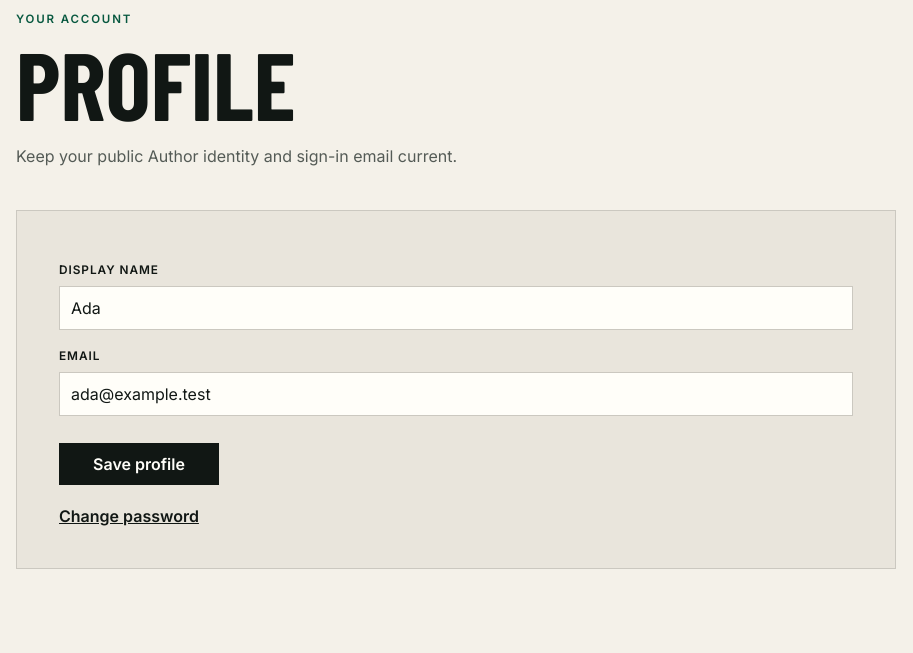
reports update errors without clearing profile values
What coordinates should you click on to do the following:
click the button "Save profile"
I would click on:
 (139, 464)
Its box is x1=59 y1=443 x2=219 y2=485.
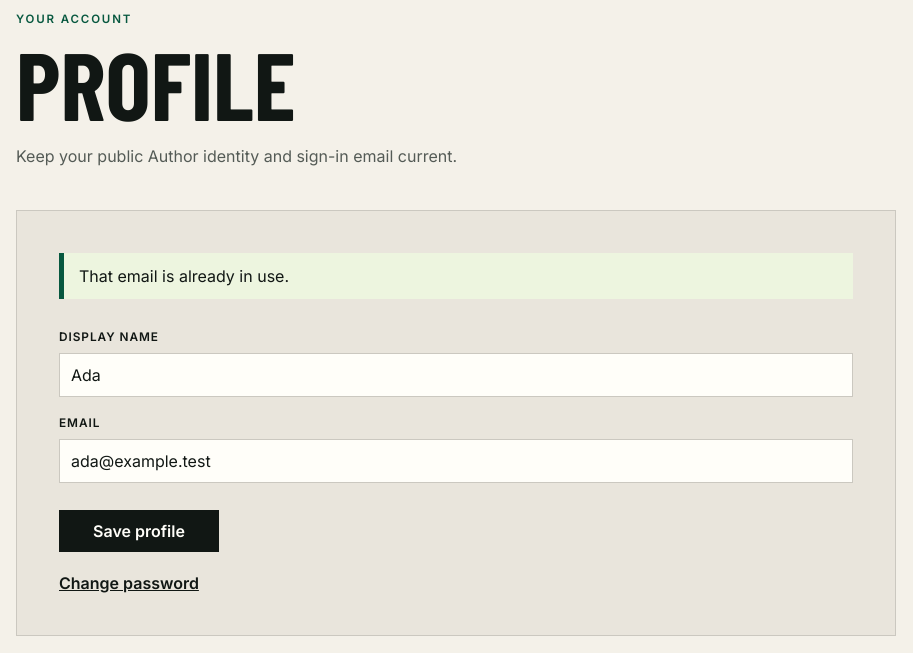
Expected: the field labelled "Display name" holds "Ada", x1=59 y1=353 x2=853 y2=397
Now the text "That email is already in use." is shown, box x1=59 y1=253 x2=853 y2=299
